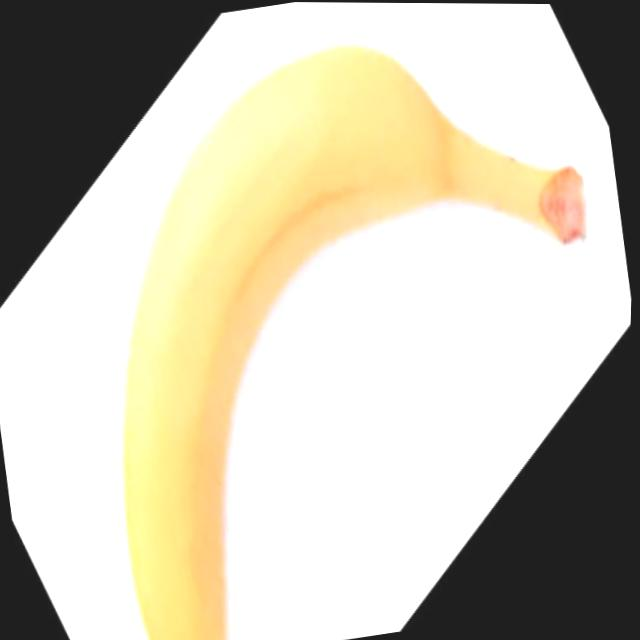Banana: (54, 5, 640, 640)
